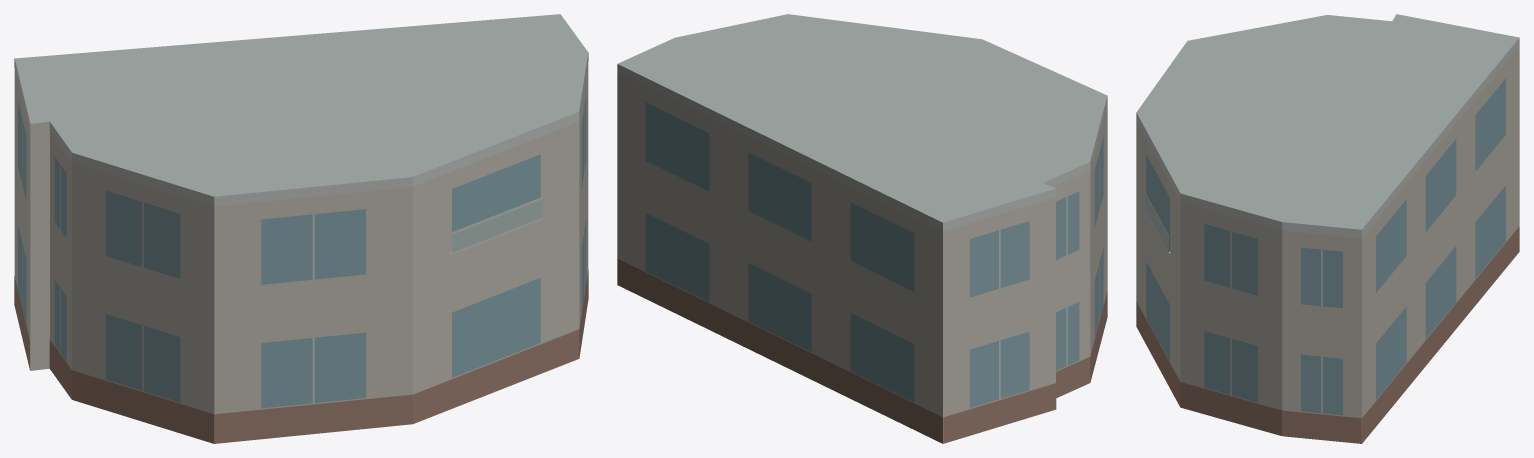
The model's file is survey-upis-32648905.glb.
3 renders of one model, left to right at view 1: azimuth 30°, elevation 25°; view 2: azimuth 150°, elevation 25°; view 3: azimuth 270°, elevation 25°, orthographic. The views are drawn at different scales.
Parts seen in each view (by area): view 1: survey-upis-32648905.tmp; view 2: survey-upis-32648905.tmp; view 3: survey-upis-32648905.tmp.
Boxes of the visible parts, x1,y1,x2,y2 form: survey-upis-32648905.tmp: [14, 14, 588, 443]; survey-upis-32648905.tmp: [617, 14, 1107, 443]; survey-upis-32648905.tmp: [1136, 14, 1519, 443].
Bounding box in the file's own units: 13.19 × 6.1 × 9.9.
